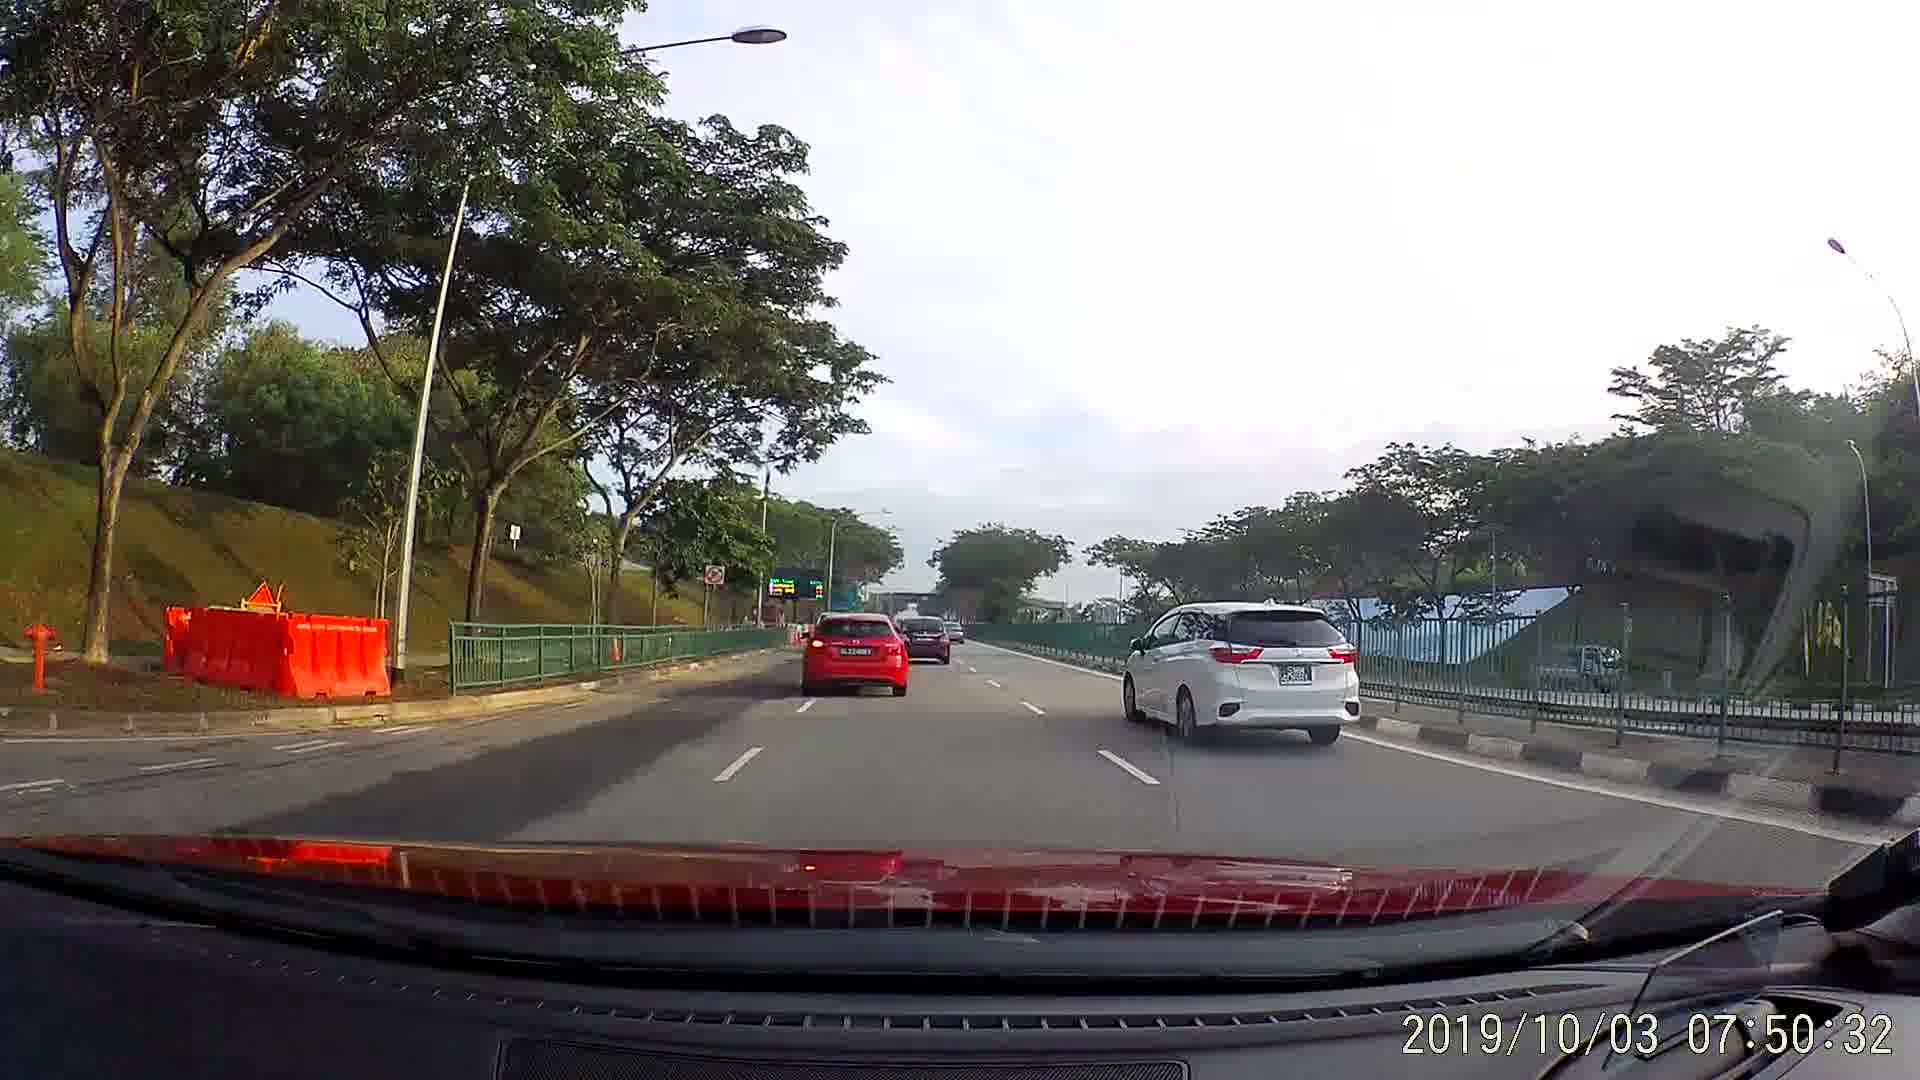car: (1105, 591, 1371, 752), (800, 608, 911, 705), (884, 615, 951, 673), (940, 621, 967, 644)
